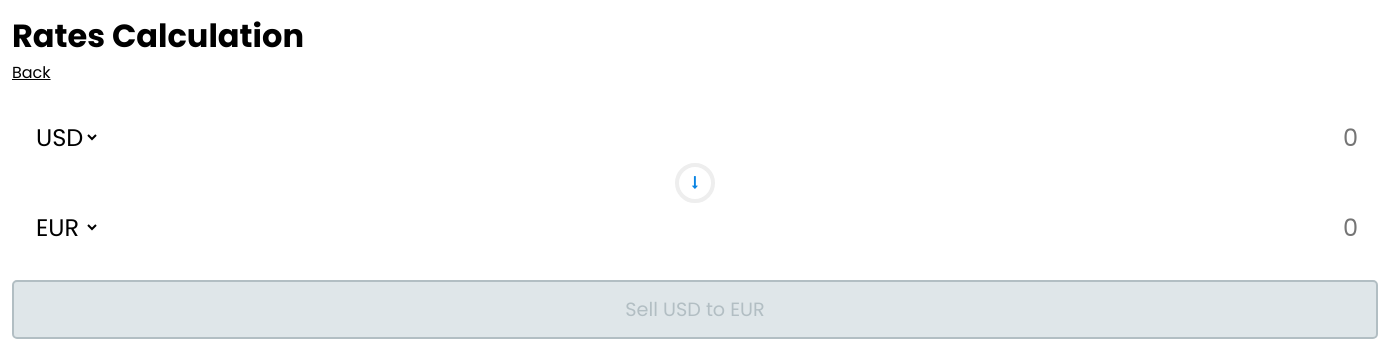
ExchangeScreen › currencyInput › Values of both will be "0" if one of them change to empty
Check: the 2nd field with placeholder "0" is empty, box top-left (895, 210), bottom-right (1358, 245)
In the 1st field with placeholder "0": (1126, 138) top-left (895, 120), bottom-right (1358, 155), type "33"
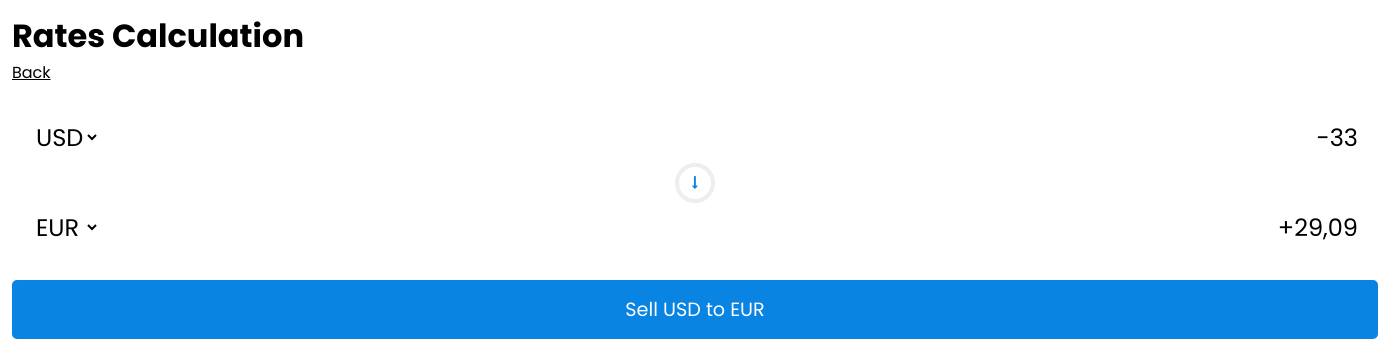
Check: the 1st field is not empty
Check: the 2nd field is not empty, box top-left (895, 210), bottom-right (1358, 245)
# set 0 on top
Clear the 1st field: (1126, 138) top-left (895, 120), bottom-right (1358, 155)
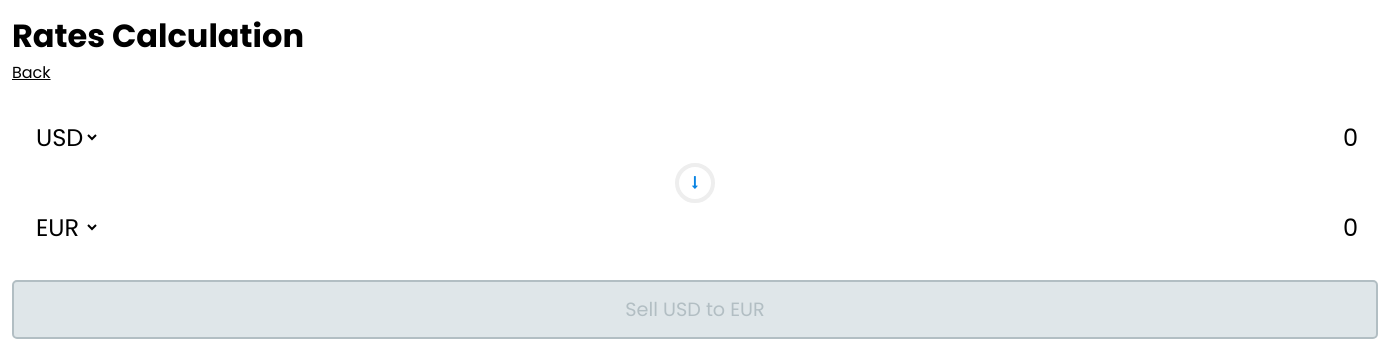
Check: the 1st field holds "0", box top-left (895, 120), bottom-right (1358, 155)
Check: the 2nd field holds "0"
# set 33 on bot
In the 2nd field: (1126, 228) top-left (895, 210), bottom-right (1358, 245), type "33"
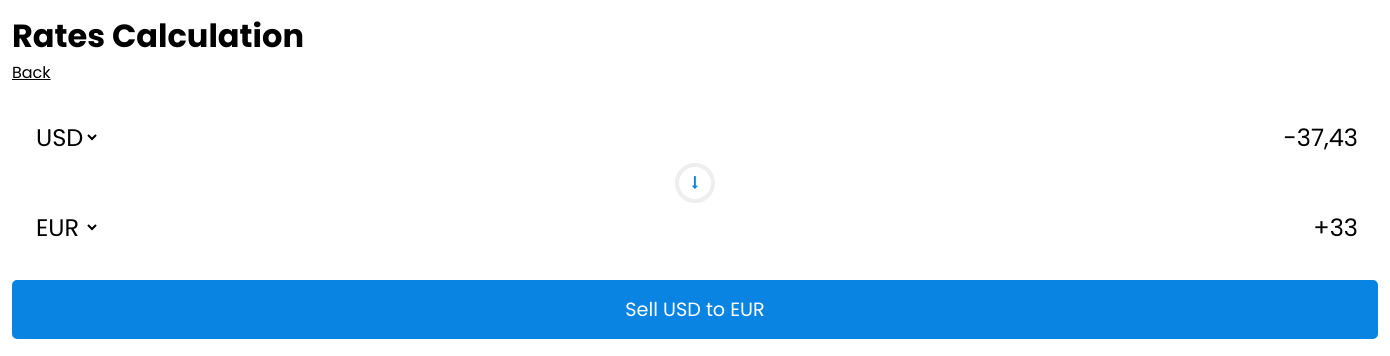
Check: the 1st field is not empty, box top-left (895, 120), bottom-right (1358, 155)
Check: the 2nd field is not empty
# set 0 on bot
Clear the 2nd field: (1126, 228) top-left (895, 210), bottom-right (1358, 245)
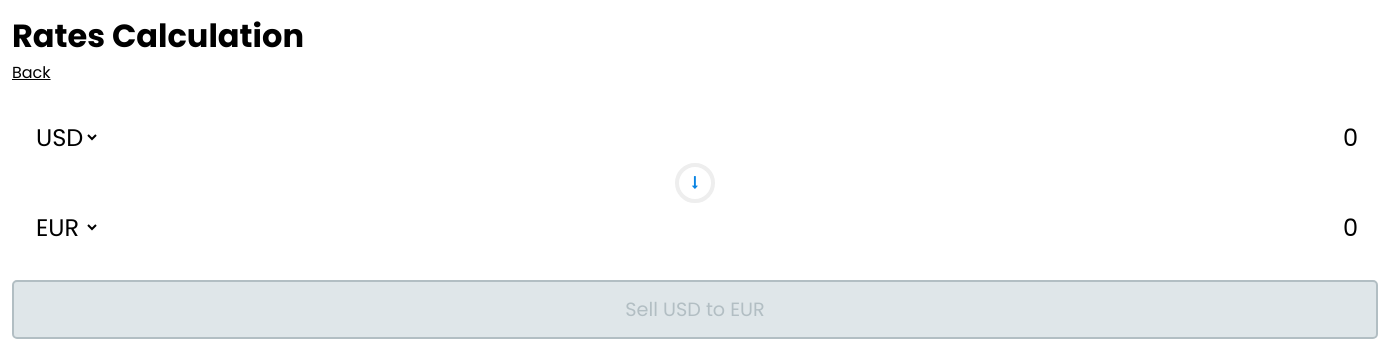
Check: the 1st field holds "0", box top-left (895, 120), bottom-right (1358, 155)
Check: the 2nd field holds "0", box top-left (895, 210), bottom-right (1358, 245)
